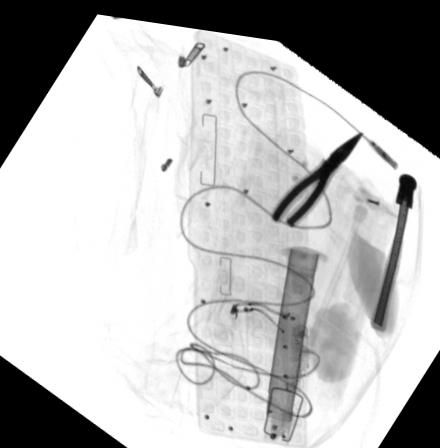Hammer: (370, 159, 417, 320)
Pliers: (269, 118, 363, 218)
